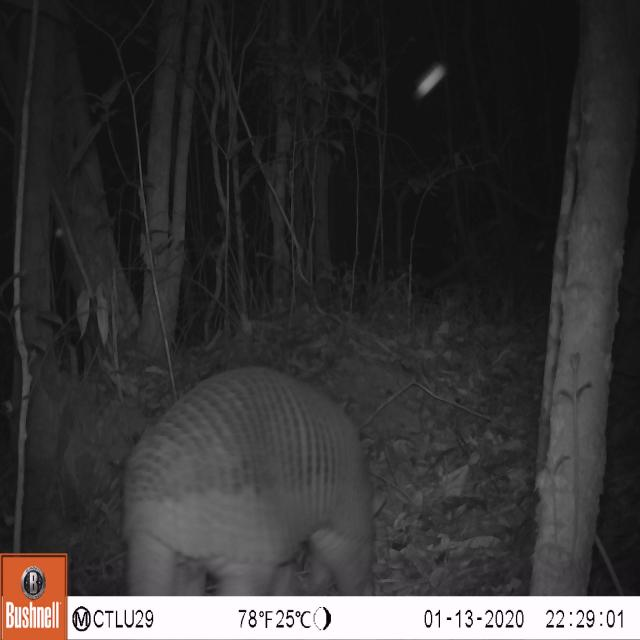Armadillo: (108, 345, 380, 595)
